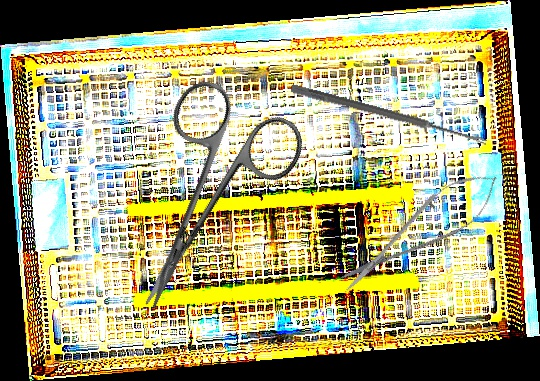Iris Scissors: (85, 70, 313, 337)
Micro Scissor: (328, 157, 511, 306)
Surgical Spoon: (290, 84, 488, 146)
